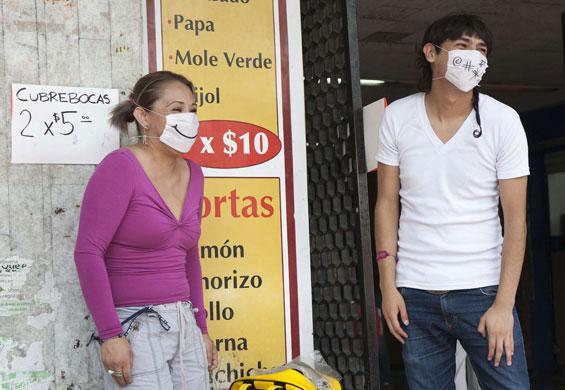OK: (438, 36, 490, 90), (151, 100, 203, 152)
